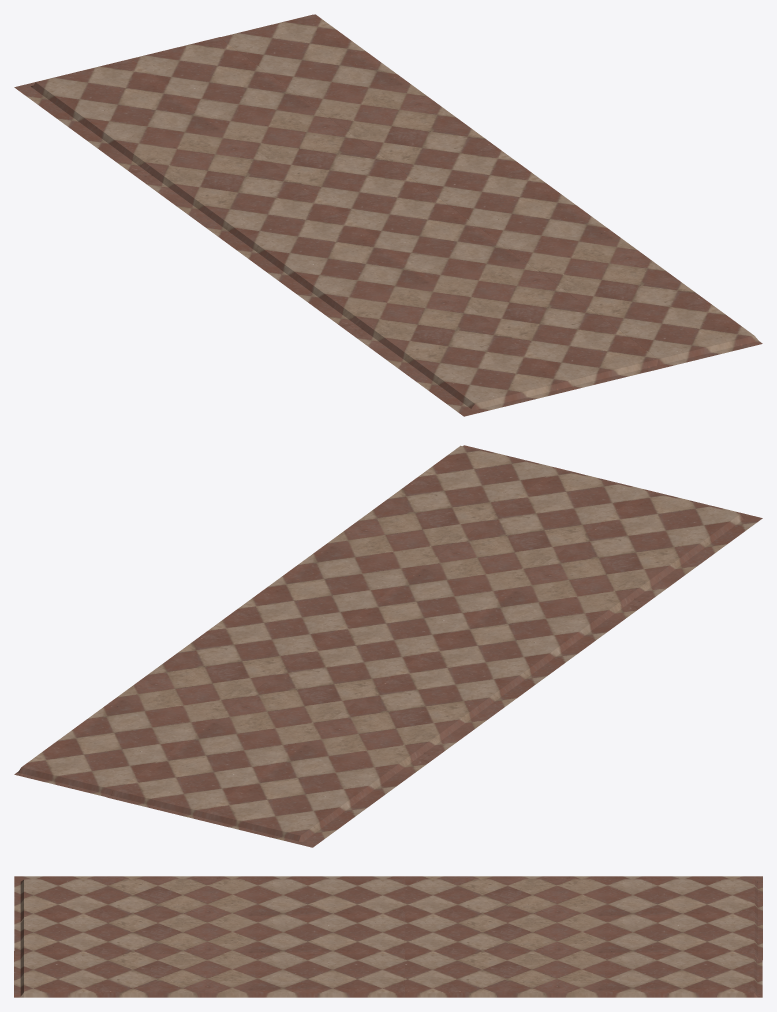
The model's file is Floor.fbx.
The picture shows the model from 3 angles, top to bottom: view 1: azimuth 30°, elevation 25°; view 2: azimuth 150°, elevation 25°; view 3: azimuth 270°, elevation 25°; orthographic projection. The views are drawn at different scales.
Parts seen in each view (by area): view 1: pPlane2__2_, pPlane2__1_, pPlane2__4_, pPlane2__6_, pPlane2__3_, pPlane2__5_; view 2: pPlane2__2_, pPlane2__1_, pPlane2__4_, pPlane2__3_, pPlane2__6_, pPlane2__5_; view 3: pPlane2__4_, pPlane2__2_, pPlane2__3_, pPlane2__1_, pPlane2__6_, pPlane2__5_.
Boxes of the visible parts, x1,y1,x2,y2 form: pPlane2__2_: (227, 213, 578, 416); pPlane2__1_: (14, 59, 341, 261); pPlane2__4_: (430, 168, 762, 370); pPlane2__6_: (342, 191, 668, 392); pPlane2__3_: (220, 14, 524, 191); pPlane2__5_: (127, 36, 428, 212); pPlane2__2_: (415, 490, 762, 690); pPlane2__1_: (198, 658, 547, 847); pPlane2__4_: (232, 445, 578, 636); pPlane2__3_: (14, 613, 326, 802); pPlane2__6_: (327, 468, 668, 658); pPlane2__5_: (106, 637, 414, 824); pPlane2__4_: (14, 951, 404, 997); pPlane2__2_: (14, 876, 412, 922); pPlane2__3_: (405, 953, 762, 997); pPlane2__1_: (364, 876, 762, 922); pPlane2__6_: (14, 913, 405, 960); pPlane2__5_: (405, 913, 762, 960).
Size of the model in its own units: 4380 by 62.31 by 11426.
1 material, 1 textured.
